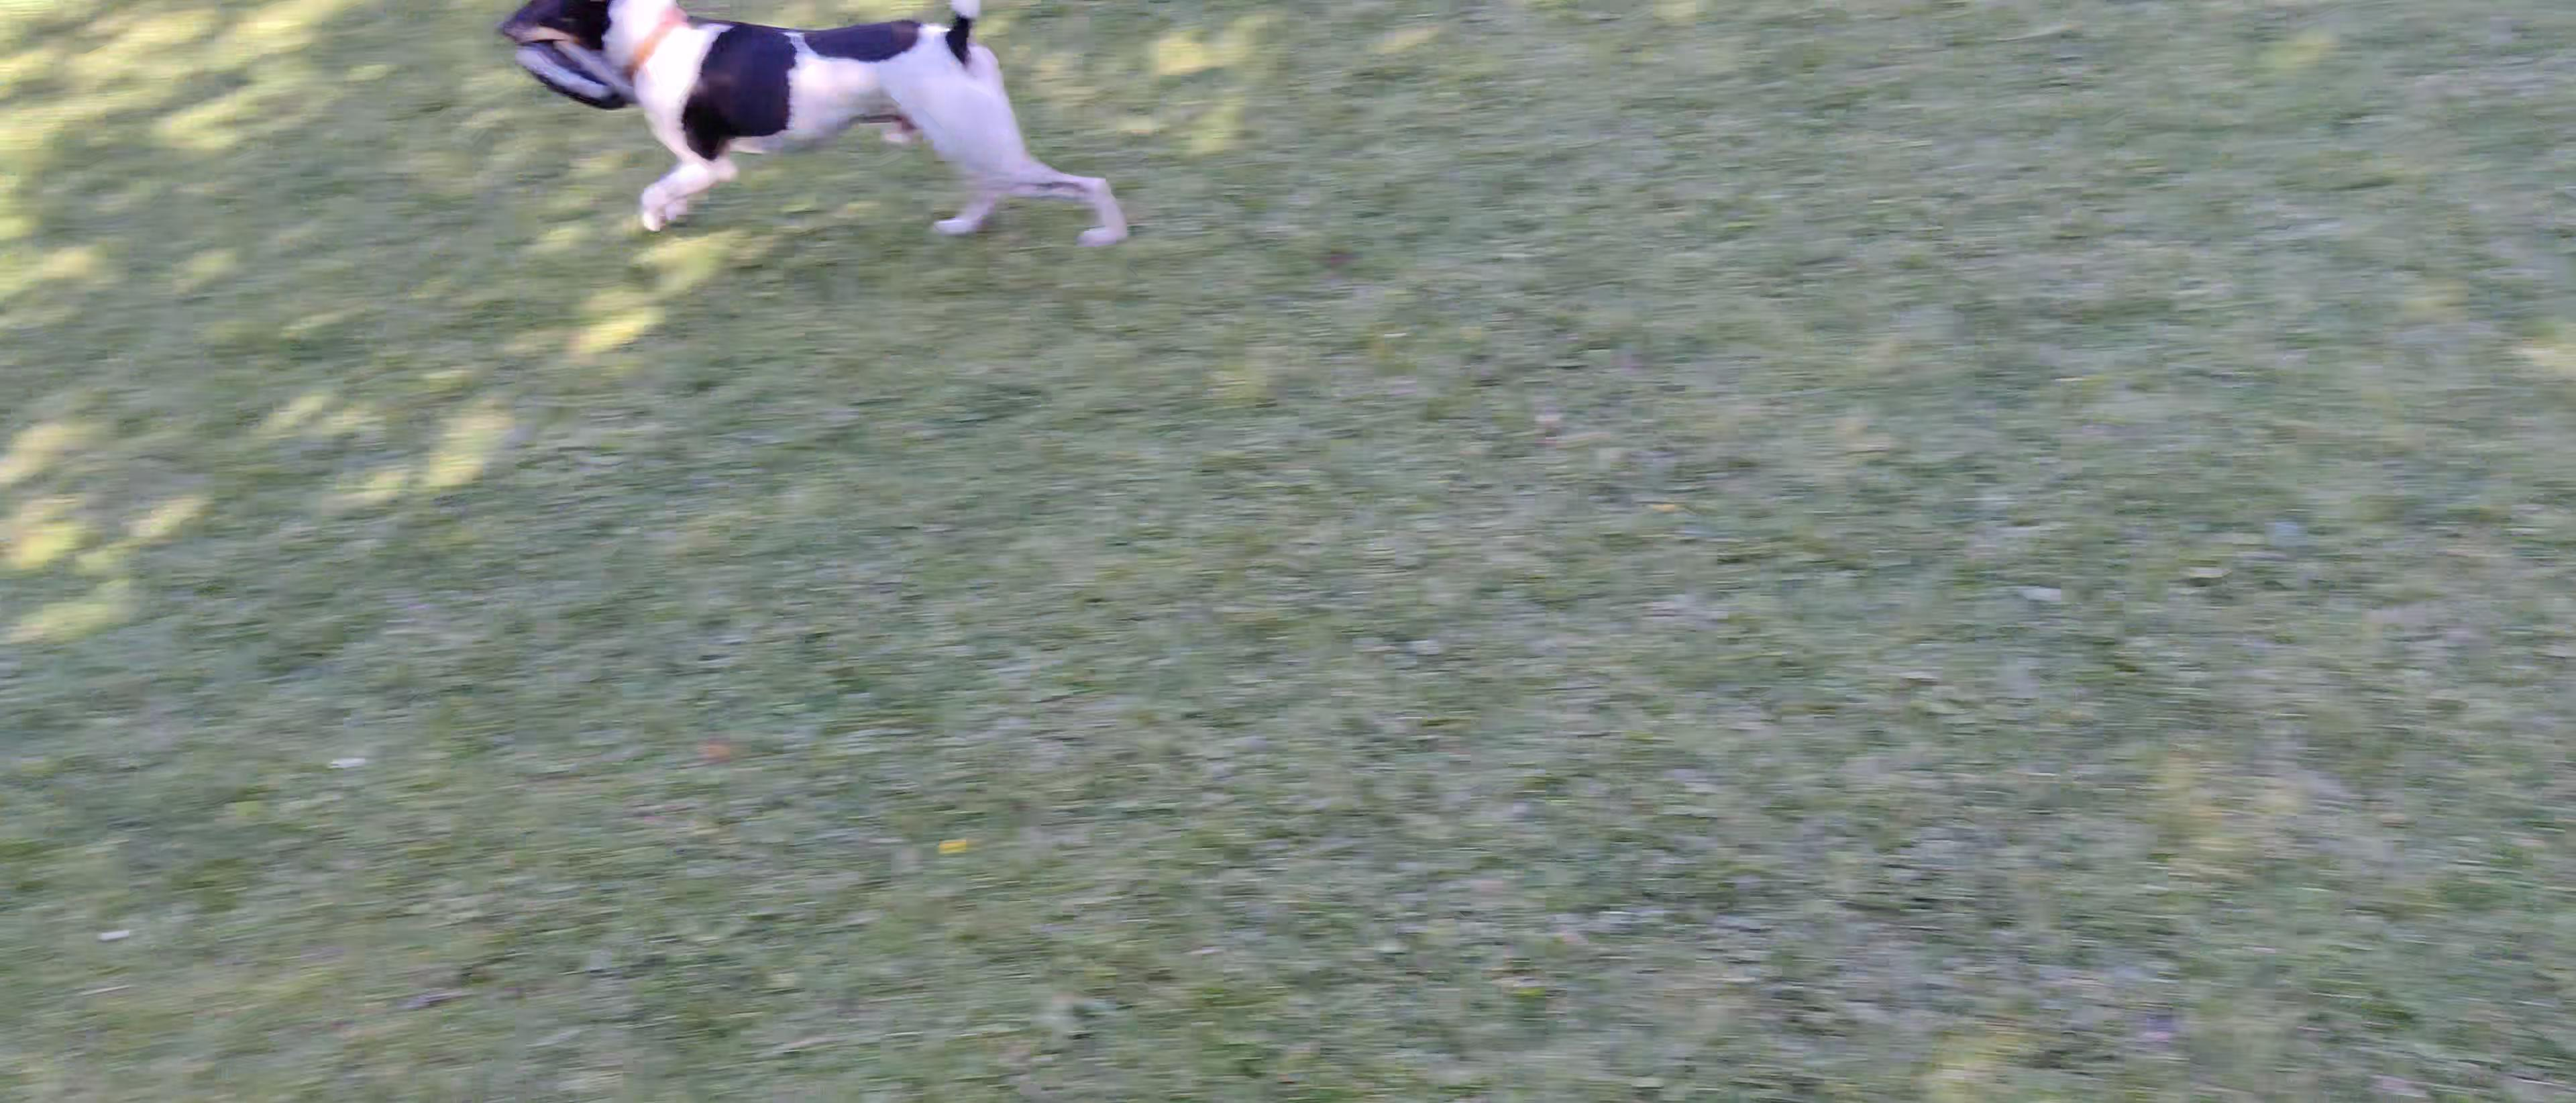Dog: (483, 0, 1170, 265)
